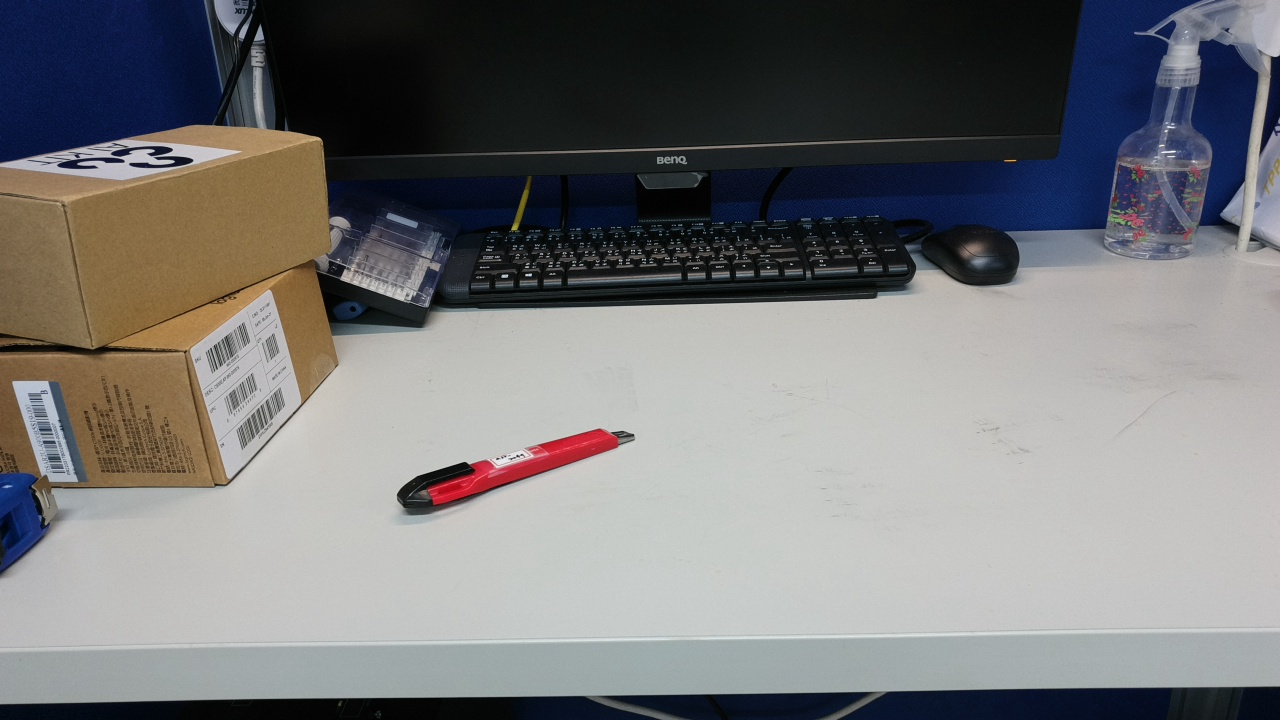columnar: (261, 161, 462, 477)
